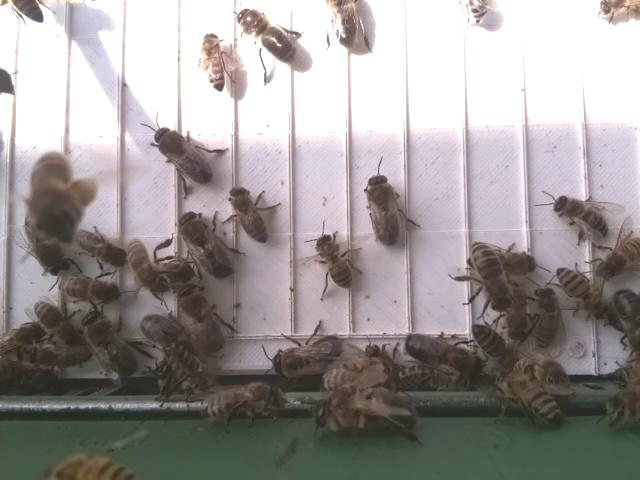Drone: (175, 205, 236, 282), (151, 123, 217, 190), (79, 307, 140, 379), (401, 329, 486, 380), (178, 278, 229, 361), (233, 4, 298, 67), (268, 333, 344, 379), (366, 171, 404, 250)
Worker: (469, 239, 512, 317), (553, 266, 610, 321), (122, 236, 171, 299), (226, 184, 273, 245), (551, 194, 607, 240), (58, 270, 122, 308), (315, 229, 353, 292), (470, 322, 519, 370), (71, 225, 126, 267), (529, 284, 561, 350), (197, 31, 230, 94), (596, 237, 640, 280)
